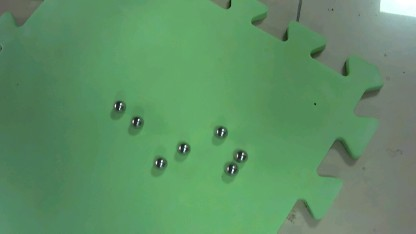ironball: (106, 95, 129, 115), (148, 154, 168, 169), (174, 140, 191, 155), (128, 113, 143, 129), (214, 123, 227, 139), (233, 148, 246, 162), (223, 164, 238, 175)
